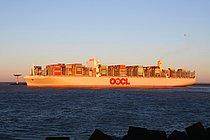Ship: (22, 57, 201, 92)
